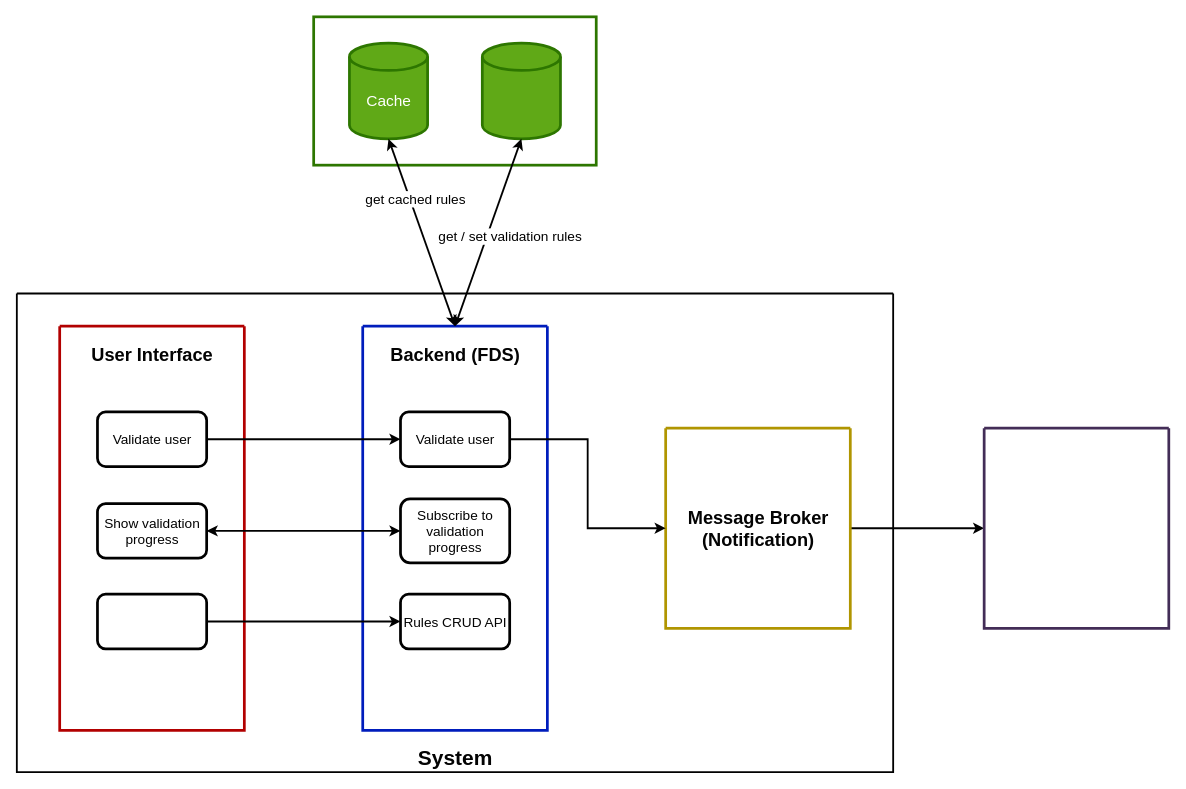
This 1186x789 diagram has some shape labels left out. The shapes that lost their labels are listed below. From the top down, each one's centre as x and y in pixels, then its label:
At point 520,90: "DB".
At point 1076,527: "Message Consumer".
At point 152,621: "Create / edit rules".
